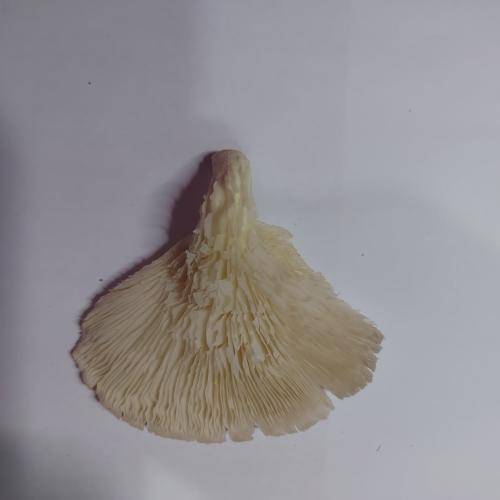Oyster Mushroom: (69, 148, 385, 444)
